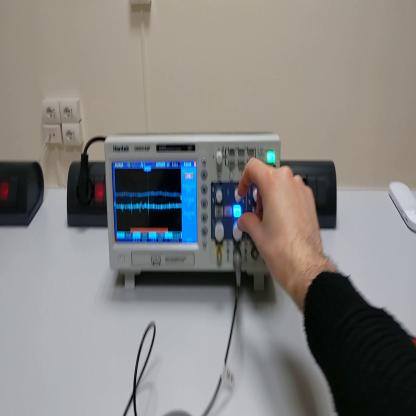hand: (235, 156, 324, 299)
oscilloscope: (104, 135, 282, 298)
socket: (64, 156, 109, 230), (2, 159, 46, 231)
